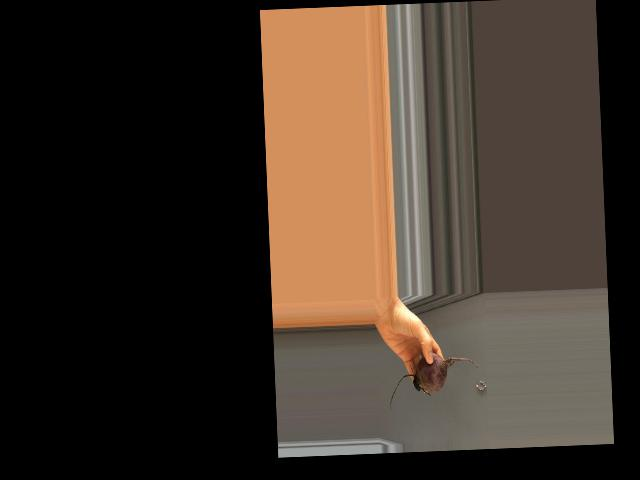beet: (387, 351, 480, 411)
